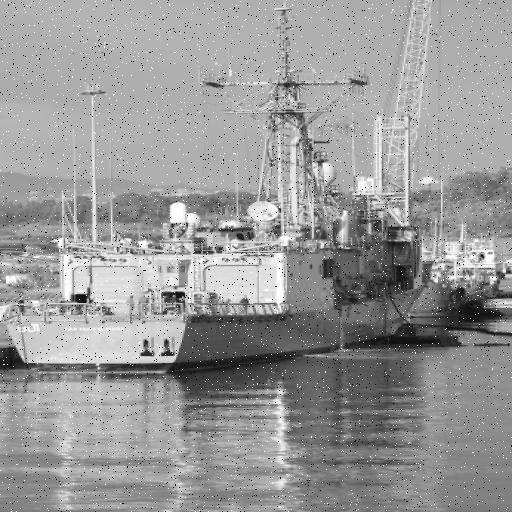Fragata: (1, 1, 433, 382)
